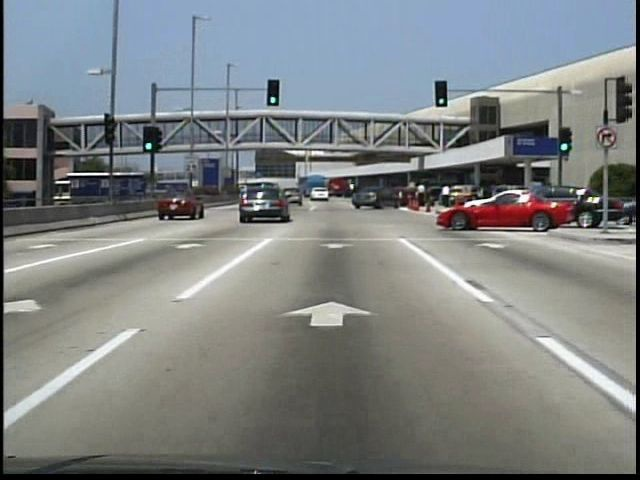person: (414, 179, 430, 210), (440, 186, 455, 211), (223, 133, 231, 148)
